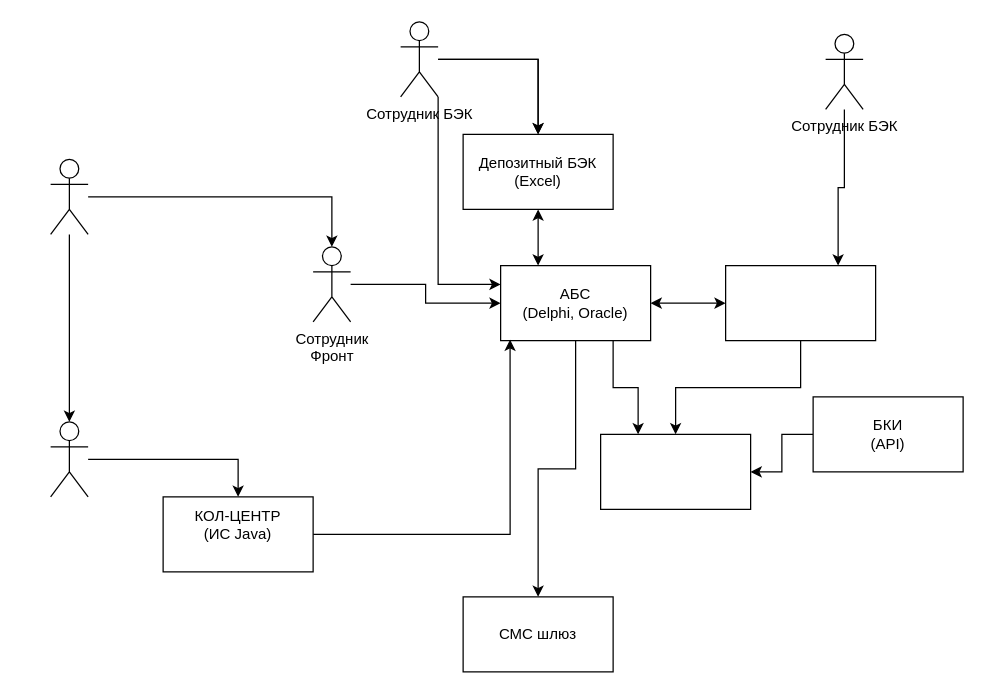
Some shapes in this 985 by 694 pixel diagram are drawn without their labels. The shapes that lost their labels are listed below. From the top down, each one's box as (x1, y1, x2, y2) in pixels, then its label:
(49, 158, 88, 234): Клиент
(724, 264, 876, 341): кредитный конвейер (Comunda)
(49, 421, 88, 497): Сотрудник КОЛ-ЦЕНТРА
(599, 433, 751, 509): Скоринг (Python)
